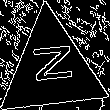N_W: (27, 47, 76, 91)
